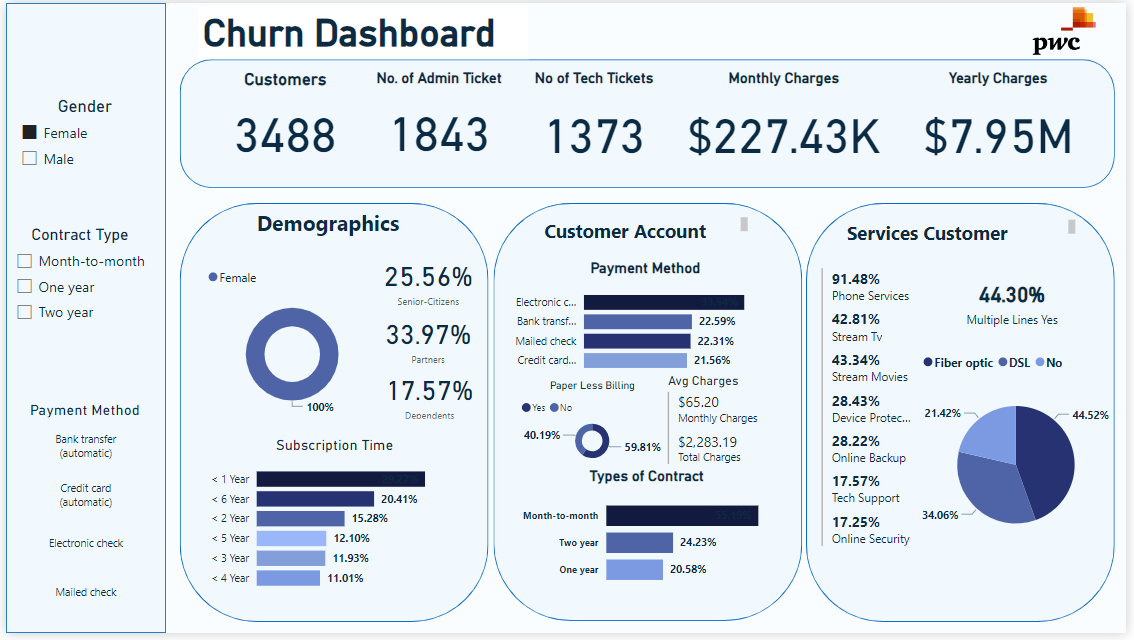

The page's visual inventory and layout, read from the dashboard file:
{"tool":"powerbi","page":{"name":"Churn_Dashboard","canvas":[1280,720],"ordinal":2},"visuals":[{"type":"shape","box":[199.1,228.1,352.8,478.8],"z":0},{"type":"shape","box":[198.6,64.3,1068.6,147.1],"z":1000},{"type":"shape","box":[914.8,228.1,352.8,478.8],"z":2000},{"type":"shape","box":[0,0,182.9,720],"z":3000},{"type":"textbox","box":[220,4.3,377.1,60],"z":4000},{"type":"image","box":[1161.4,0,95.7,64.3],"z":5000},{"type":"card","title":"Customers","fields":{"Values":["CountNonNull(Churn.Customer_ID)"]},"box":[241.4,75.7,155.7,121.4],"z":6000},{"type":"card","title":"No. of Admin Ticket","fields":{"Values":["Sum(Churn.numAdminTickets)"]},"box":[417.6,75.7,155.7,121.4],"z":7000},{"type":"card","title":"No of Tech Tickets","fields":{"Values":["Sum(Churn.numTechTickets)"]},"box":[593.8,75.7,155.7,121.4],"z":8000},{"type":"card","title":"Monthly Charges","fields":{"Values":["Sum(Churn.MonthlyCharges)"]},"box":[770,75.6,237.8,121.1],"z":9000},{"type":"card","title":"Yearly Charges","fields":{"Values":["Sum(Churn.TotalCharges)"]},"box":[1028.2,75.6,210.4,121],"z":10000},{"type":"slicer","title":"Gender","fields":{"Values":["Churn.gender"]},"box":[6.3,107.1,168.9,89.5],"z":11000},{"type":"slicer","title":"Contract Type","fields":{"Values":["Churn.Contract"]},"box":[0,253.9,168.9,143.7],"z":12000},{"type":"slicer","title":"Payment Method","fields":{"Values":["Churn.PaymentMethod"]},"box":[6.3,454.9,168.9,250.8],"z":13000},{"type":"shape","box":[557,228.1,352.8,477.6],"z":14000},{"type":"donutChart","fields":{"Category":["Churn.gender"],"Y":["CountNonNull(Churn.gender)"]},"box":[225.6,292.5,203.1,187.5],"z":15000},{"type":"textbox","box":[281.4,230,187.1,50],"z":16000},{"type":"clusteredBarChart","title":"Subscription Time","fields":{"Y":["CountNonNull(Churn.Churn)"],"Category":["Churn.Loyalty"]},"box":[225.6,494,299.9,186.5],"z":17000},{"type":"card","fields":{"Values":["KPI_Churn.Senior-Citizens"]},"box":[423.1,282.5,120,68.8],"z":18000},{"type":"card","fields":{"Values":["KPI_Churn.Partners"]},"box":[423.1,349.4,120,66.9],"z":19000},{"type":"card","fields":{"Values":["KPI_Churn.Dependents"]},"box":[424.4,414.4,120,65.6],"z":20000},{"type":"textbox","box":[610,240,242.9,40],"z":21000},{"type":"clusteredBarChart","title":"Payment Method","fields":{"Category":["Churn.PaymentMethod"],"Y":["CountNonNull(Churn.PaymentMethod)"]},"box":[566,293,330,139],"z":22000},{"type":"donutChart","title":"Paper Less Billing","fields":{"Category":["Churn.PaperlessBilling"],"Y":["CountNonNull(Churn.PaperlessBilling)"]},"box":[584.1,430.6,171.8,100],"z":23000},{"type":"clusteredBarChart","title":"Types of Contract","fields":{"Category":["Churn.Contract"],"Y":["CountNonNull(Churn.Contract)"]},"box":[584.1,530.6,295.9,148.2],"z":24000},{"type":"multiRowCard","title":"Avg Charges","fields":{"Values":["Avg(Churn.MonthlyCharges)","Avg(Churn.TotalCharges)"]},"box":[751.1,423.3,144.4,112.2],"z":25000},{"type":"textbox","box":[955.7,242.9,271.4,40],"z":26000},{"type":"pieChart","fields":{"Category":["Churn.InternetService"],"Y":["CountNonNull(Churn.InternetService)"]},"box":[1043,390,223,246],"z":27000},{"type":"multiRowCard","fields":{"Values":["KPI_Churn.Phone Services","KPI_Churn.Stream Tv","KPI_Churn.Stream Movies","KPI_Churn.Device Protection","KPI_Churn.Online Backup","KPI_Churn.Tech Support","KPI_Churn.Online Security"]},"box":[927,298,116,338],"z":28000},{"type":"card","fields":{"Values":["KPI_Churn.Multiple Lines Yes"]},"box":[1043,298,214,85],"z":29000}]}

Visuals, with their boxes in screenshot pixels (x1, y1, x2, y2), scaled from the page's 1280x720 canvas onto the 1134x640 screenshot:
shape: [176, 203, 489, 628]
shape: [176, 57, 1123, 188]
shape: [810, 203, 1123, 628]
shape: [0, 0, 162, 639]
textbox: [195, 4, 529, 57]
image: [1029, 0, 1114, 57]
"Customers" card: [214, 67, 352, 175]
"No. of Admin Ticket" card: [370, 67, 508, 175]
"No of Tech Tickets" card: [526, 67, 664, 175]
"Monthly Charges" card: [682, 67, 893, 175]
"Yearly Charges" card: [911, 67, 1097, 175]
"Gender" slicer: [6, 95, 155, 175]
"Contract Type" slicer: [0, 226, 150, 353]
"Payment Method" slicer: [6, 404, 155, 627]
shape: [493, 203, 806, 627]
donutChart - Churn.gender x CountNonNull(Churn.gender): [200, 260, 380, 427]
textbox: [249, 204, 415, 249]
"Subscription Time" clusteredBarChart: [200, 439, 466, 605]
card - KPI_Churn.Senior-Citizens: [375, 251, 481, 312]
card - KPI_Churn.Partners: [375, 311, 481, 370]
card - KPI_Churn.Dependents: [376, 368, 482, 427]
textbox: [540, 213, 756, 249]
"Payment Method" clusteredBarChart: [501, 260, 794, 384]
"Paper Less Billing" donutChart: [517, 383, 670, 472]
"Types of Contract" clusteredBarChart: [517, 472, 780, 603]
"Avg Charges" multiRowCard: [665, 376, 793, 476]
textbox: [847, 216, 1087, 251]
pieChart - Churn.InternetService x CountNonNull(Churn.InternetService): [924, 347, 1122, 565]
multiRowCard - KPI_Churn.Phone Services x KPI_Churn.Stream Tv: [821, 265, 924, 565]
card - KPI_Churn.Multiple Lines Yes: [924, 265, 1114, 340]
